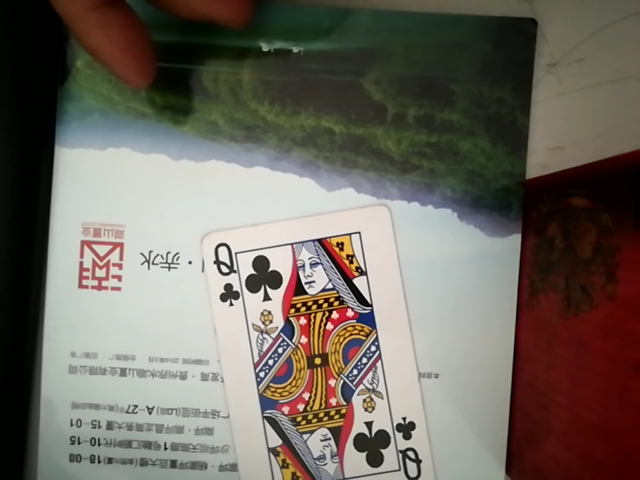mh q: (202, 193, 428, 480)
